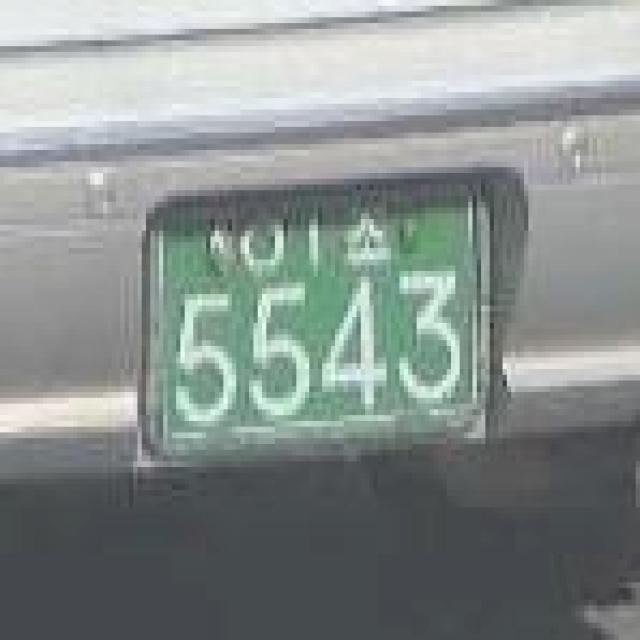illegal_plate: (129, 161, 512, 484)
